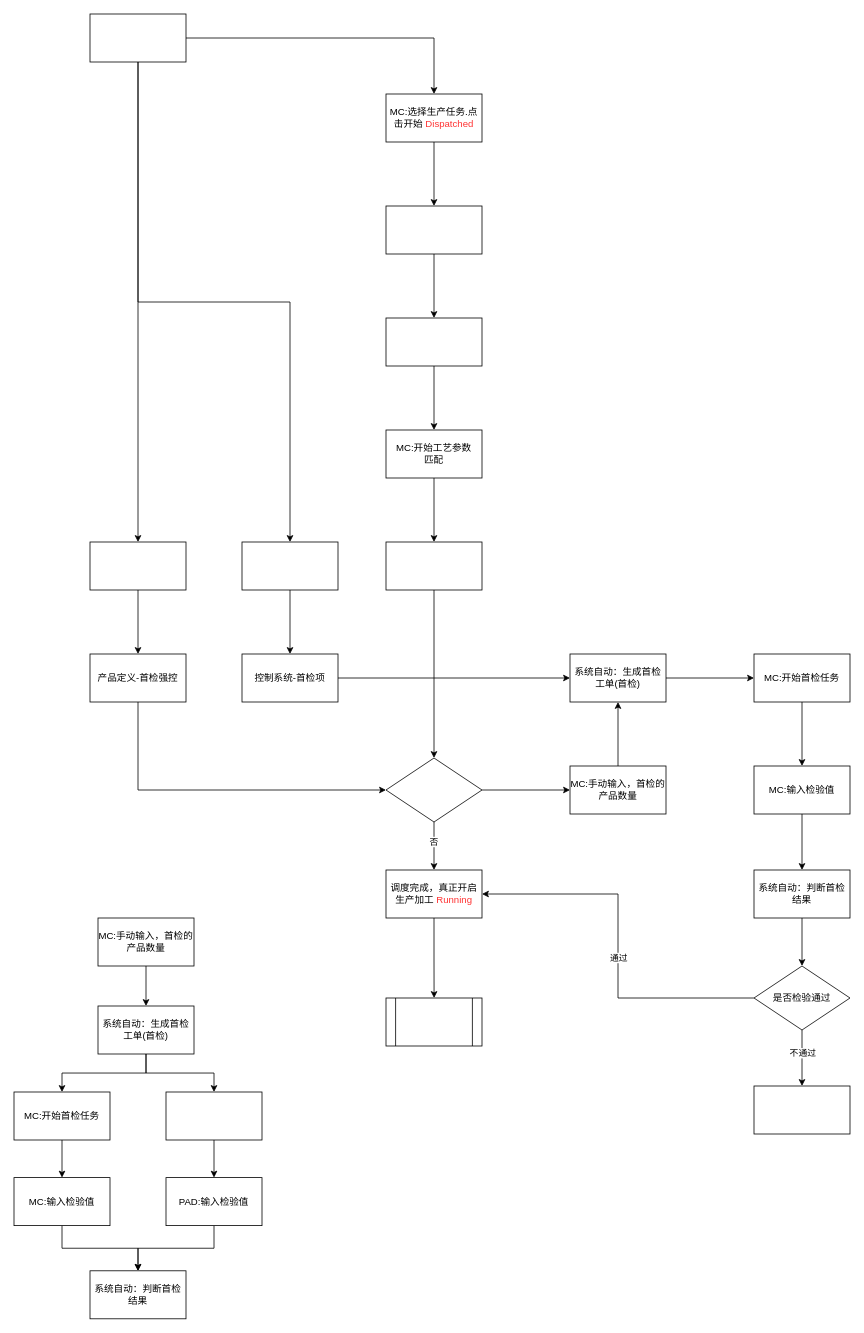
The diagram is 864 pixels wide and 1333 high, and some of its shapes have lost their labels. The centre of each missing label's shape, as x and y in pixels:
MC:完成MRO匹配: point 433,341
MC:完成工艺参数 匹配: point 433,565
MC:开始MRO匹配: point 433,229
PAD:开始检验任务: point 213,1115
工序: point 289,565
排产:生产任务(修改)-waiting: point 137,37
是否首检强控: point 433,789
生产任务-生产的目标产品(定义): point 137,565
系统自动：生产任务 Waiting: point 801,1109
